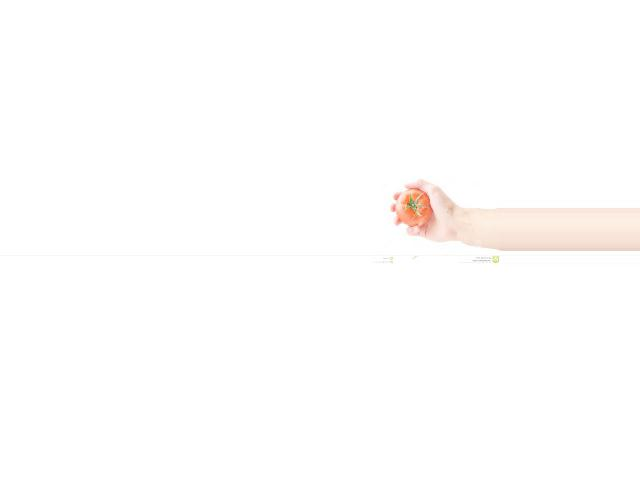tomato: (395, 189, 431, 227)
